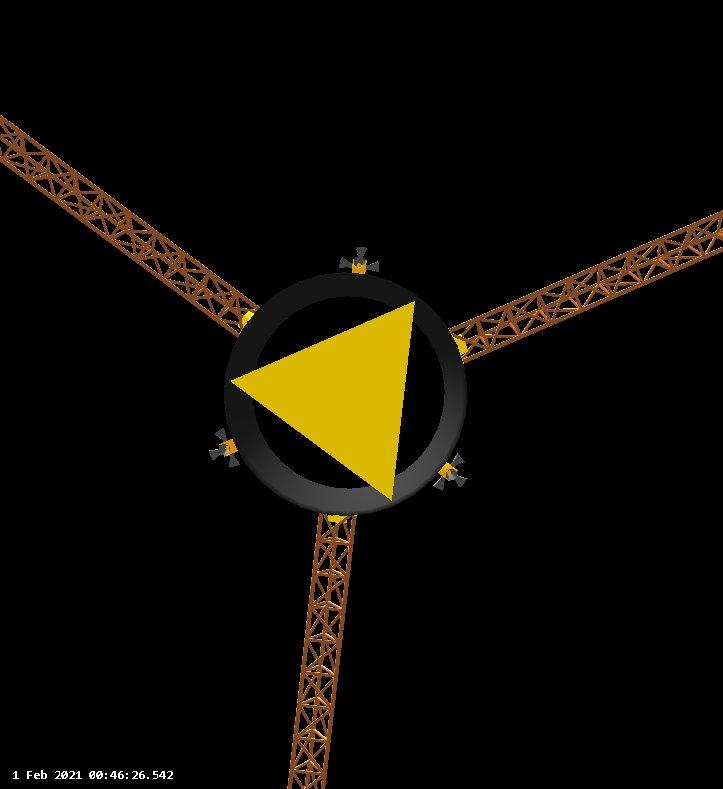antenna: (0, 104, 262, 339), (445, 210, 723, 366), (282, 510, 360, 789)
body: (222, 270, 470, 513)
thruster: (450, 451, 466, 467), (214, 426, 229, 442), (452, 474, 468, 488), (228, 451, 241, 468), (338, 257, 353, 270), (433, 476, 445, 492), (209, 448, 223, 461), (364, 260, 380, 271), (355, 246, 367, 259), (218, 444, 231, 456), (353, 256, 365, 268), (446, 469, 457, 480)
